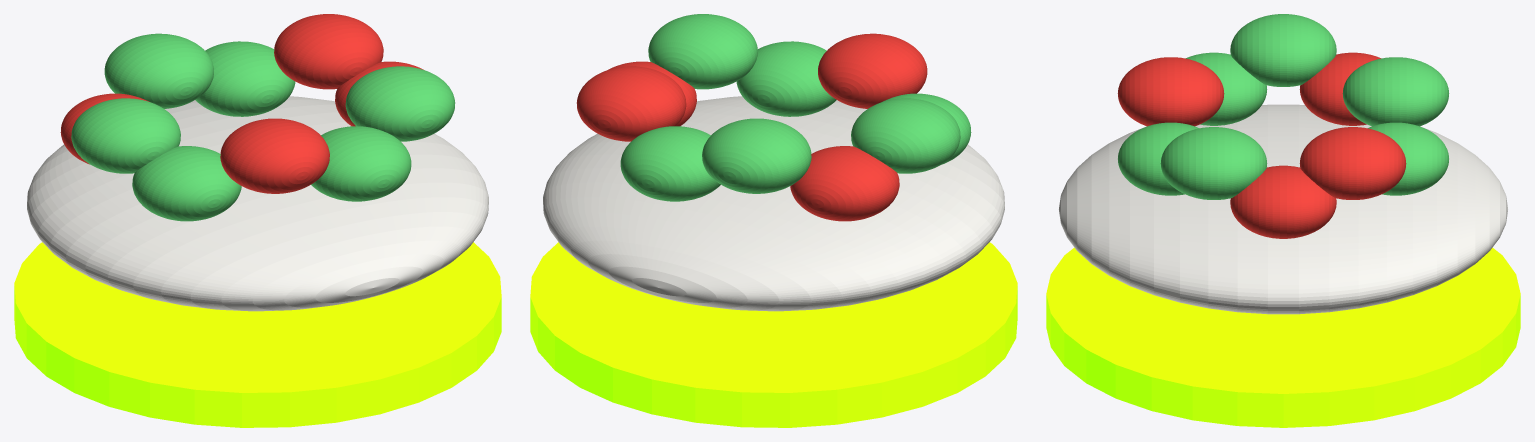
The model's file is food_salad_bowl.glb.
3 views of the same model, side by side, from view 1: azimuth 30°, elevation 25°; view 2: azimuth 150°, elevation 25°; view 3: azimuth 270°, elevation 25° (orthographic). The views are drawn at different scales.
Parts seen in each view (by area): view 1: 01_13_Popular_Food_Salad_Bowl_ROOT_base, 01_13_Popular_Food_Salad_Bowl_part_01, 01_13_Popular_Food_Salad_Bowl_part_05, 01_13_Popular_Food_Salad_Bowl_part_03, 01_13_Popular_Food_Salad_Bowl_part_07, 01_13_Popular_Food_Salad_Bowl_part_09, 01_13_Popular_Food_Salad_Bowl_part_11, 01_13_Popular_Food_Salad_Bowl_part_06, 01_13_Popular_Food_Salad_Bowl_part_04, 01_13_Popular_Food_Salad_Bowl_part_10, 01_13_Popular_Food_Salad_Bowl_part_08, 01_13_Popular_Food_Salad_Bowl_part_02; view 2: 01_13_Popular_Food_Salad_Bowl_ROOT_base, 01_13_Popular_Food_Salad_Bowl_part_01, 01_13_Popular_Food_Salad_Bowl_part_09, 01_13_Popular_Food_Salad_Bowl_part_11, 01_13_Popular_Food_Salad_Bowl_part_05, 01_13_Popular_Food_Salad_Bowl_part_07, 01_13_Popular_Food_Salad_Bowl_part_03, 01_13_Popular_Food_Salad_Bowl_part_08, 01_13_Popular_Food_Salad_Bowl_part_10, 01_13_Popular_Food_Salad_Bowl_part_04, 01_13_Popular_Food_Salad_Bowl_part_06, 01_13_Popular_Food_Salad_Bowl_part_02; view 3: 01_13_Popular_Food_Salad_Bowl_ROOT_base, 01_13_Popular_Food_Salad_Bowl_part_01, 01_13_Popular_Food_Salad_Bowl_part_03, 01_13_Popular_Food_Salad_Bowl_part_11, 01_13_Popular_Food_Salad_Bowl_part_05, 01_13_Popular_Food_Salad_Bowl_part_09, 01_13_Popular_Food_Salad_Bowl_part_07, 01_13_Popular_Food_Salad_Bowl_part_02, 01_13_Popular_Food_Salad_Bowl_part_04, 01_13_Popular_Food_Salad_Bowl_part_10, 01_13_Popular_Food_Salad_Bowl_part_06, 01_13_Popular_Food_Salad_Bowl_part_08.
Part boxes in pixels (box(x1,y1,x2,y2)): 01_13_Popular_Food_Salad_Bowl_ROOT_base: box(14, 242, 501, 427); 01_13_Popular_Food_Salad_Bowl_part_01: box(27, 96, 488, 311); 01_13_Popular_Food_Salad_Bowl_part_05: box(220, 118, 329, 193); 01_13_Popular_Food_Salad_Bowl_part_03: box(345, 66, 455, 141); 01_13_Popular_Food_Salad_Bowl_part_07: box(71, 98, 180, 173); 01_13_Popular_Food_Salad_Bowl_part_09: box(104, 33, 213, 108); 01_13_Popular_Food_Salad_Bowl_part_11: box(274, 14, 383, 89); 01_13_Popular_Food_Salad_Bowl_part_06: box(132, 146, 241, 221); 01_13_Popular_Food_Salad_Bowl_part_04: box(311, 126, 411, 201); 01_13_Popular_Food_Salad_Bowl_part_10: box(195, 41, 295, 116); 01_13_Popular_Food_Salad_Bowl_part_08: box(60, 93, 149, 164); 01_13_Popular_Food_Salad_Bowl_part_02: box(335, 61, 423, 126); 01_13_Popular_Food_Salad_Bowl_ROOT_base: box(530, 242, 1017, 427); 01_13_Popular_Food_Salad_Bowl_part_01: box(543, 96, 1004, 311); 01_13_Popular_Food_Salad_Bowl_part_09: box(702, 118, 811, 193); 01_13_Popular_Food_Salad_Bowl_part_11: box(576, 66, 686, 141); 01_13_Popular_Food_Salad_Bowl_part_05: box(818, 33, 927, 108); 01_13_Popular_Food_Salad_Bowl_part_07: box(851, 98, 960, 173); 01_13_Popular_Food_Salad_Bowl_part_03: box(648, 14, 757, 89); 01_13_Popular_Food_Salad_Bowl_part_08: box(790, 146, 899, 221); 01_13_Popular_Food_Salad_Bowl_part_10: box(620, 126, 720, 201); 01_13_Popular_Food_Salad_Bowl_part_04: box(736, 41, 836, 116); 01_13_Popular_Food_Salad_Bowl_part_06: box(882, 93, 971, 164); 01_13_Popular_Food_Salad_Bowl_part_02: box(608, 61, 696, 126); 01_13_Popular_Food_Salad_Bowl_ROOT_base: box(1046, 247, 1520, 427); 01_13_Popular_Food_Salad_Bowl_part_01: box(1059, 104, 1507, 314); 01_13_Popular_Food_Salad_Bowl_part_03: box(1160, 127, 1267, 199); 01_13_Popular_Food_Salad_Bowl_part_11: box(1299, 127, 1406, 199); 01_13_Popular_Food_Salad_Bowl_part_05: box(1117, 57, 1224, 126); 01_13_Popular_Food_Salad_Bowl_part_09: box(1342, 57, 1449, 126); 01_13_Popular_Food_Salad_Bowl_part_07: box(1230, 14, 1336, 86); 01_13_Popular_Food_Salad_Bowl_part_02: box(1230, 165, 1336, 238); 01_13_Popular_Food_Salad_Bowl_part_04: box(1118, 122, 1198, 195); 01_13_Popular_Food_Salad_Bowl_part_10: box(1368, 122, 1448, 195); 01_13_Popular_Food_Salad_Bowl_part_06: box(1185, 52, 1267, 125); 01_13_Popular_Food_Salad_Bowl_part_08: box(1299, 52, 1381, 125).
Bounding box in the file's own units: 0.76 × 0.4306 × 0.76.
